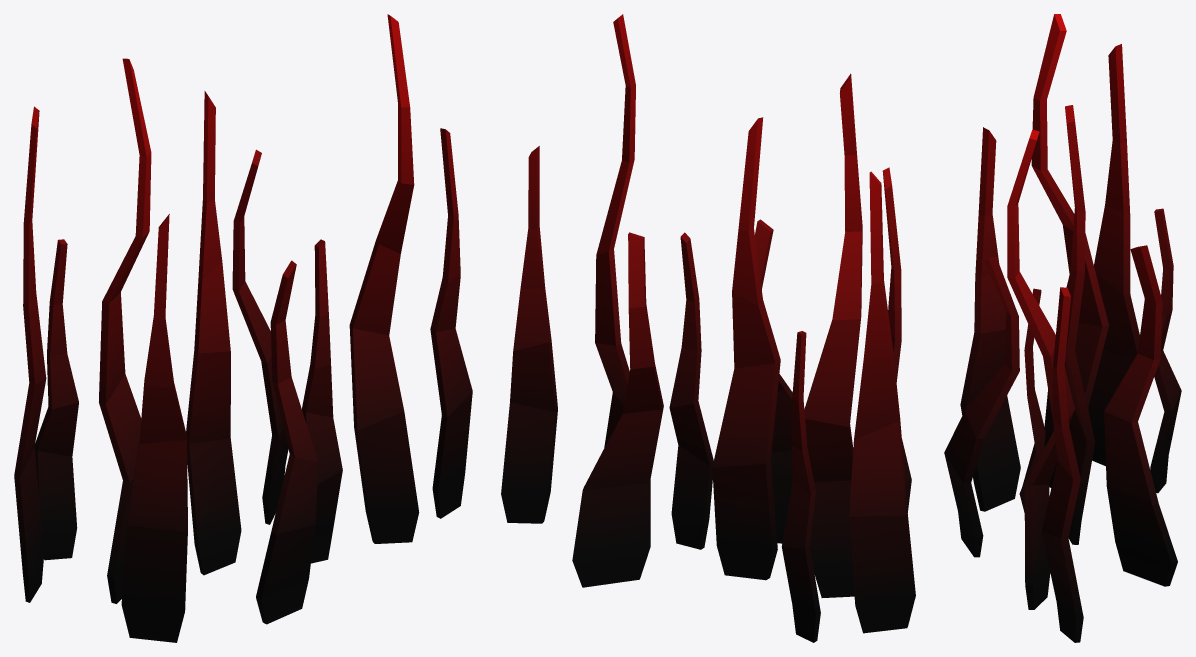
File: SM_Env_Plant_Kelp_02.fbx
The picture shows the model from 3 angles, left to right: view 1: azimuth 30°, elevation 25°; view 2: azimuth 150°, elevation 25°; view 3: azimuth 270°, elevation 25°; orthographic projection. The views are drawn at different scales.
Parts seen in each view (by area): view 1: SM_Env_Plant_Kelp_02; view 2: SM_Env_Plant_Kelp_02; view 3: SM_Env_Plant_Kelp_02.
Part boxes in pixels (x1=…): SM_Env_Plant_Kelp_02: x1=14, y1=14, x2=472, y2=642; SM_Env_Plant_Kelp_02: x1=501, y1=14, x2=915, y2=642; SM_Env_Plant_Kelp_02: x1=944, y1=14, x2=1181, y2=642.
Bounding box in the file's own units: 256 × 312 × 136.
